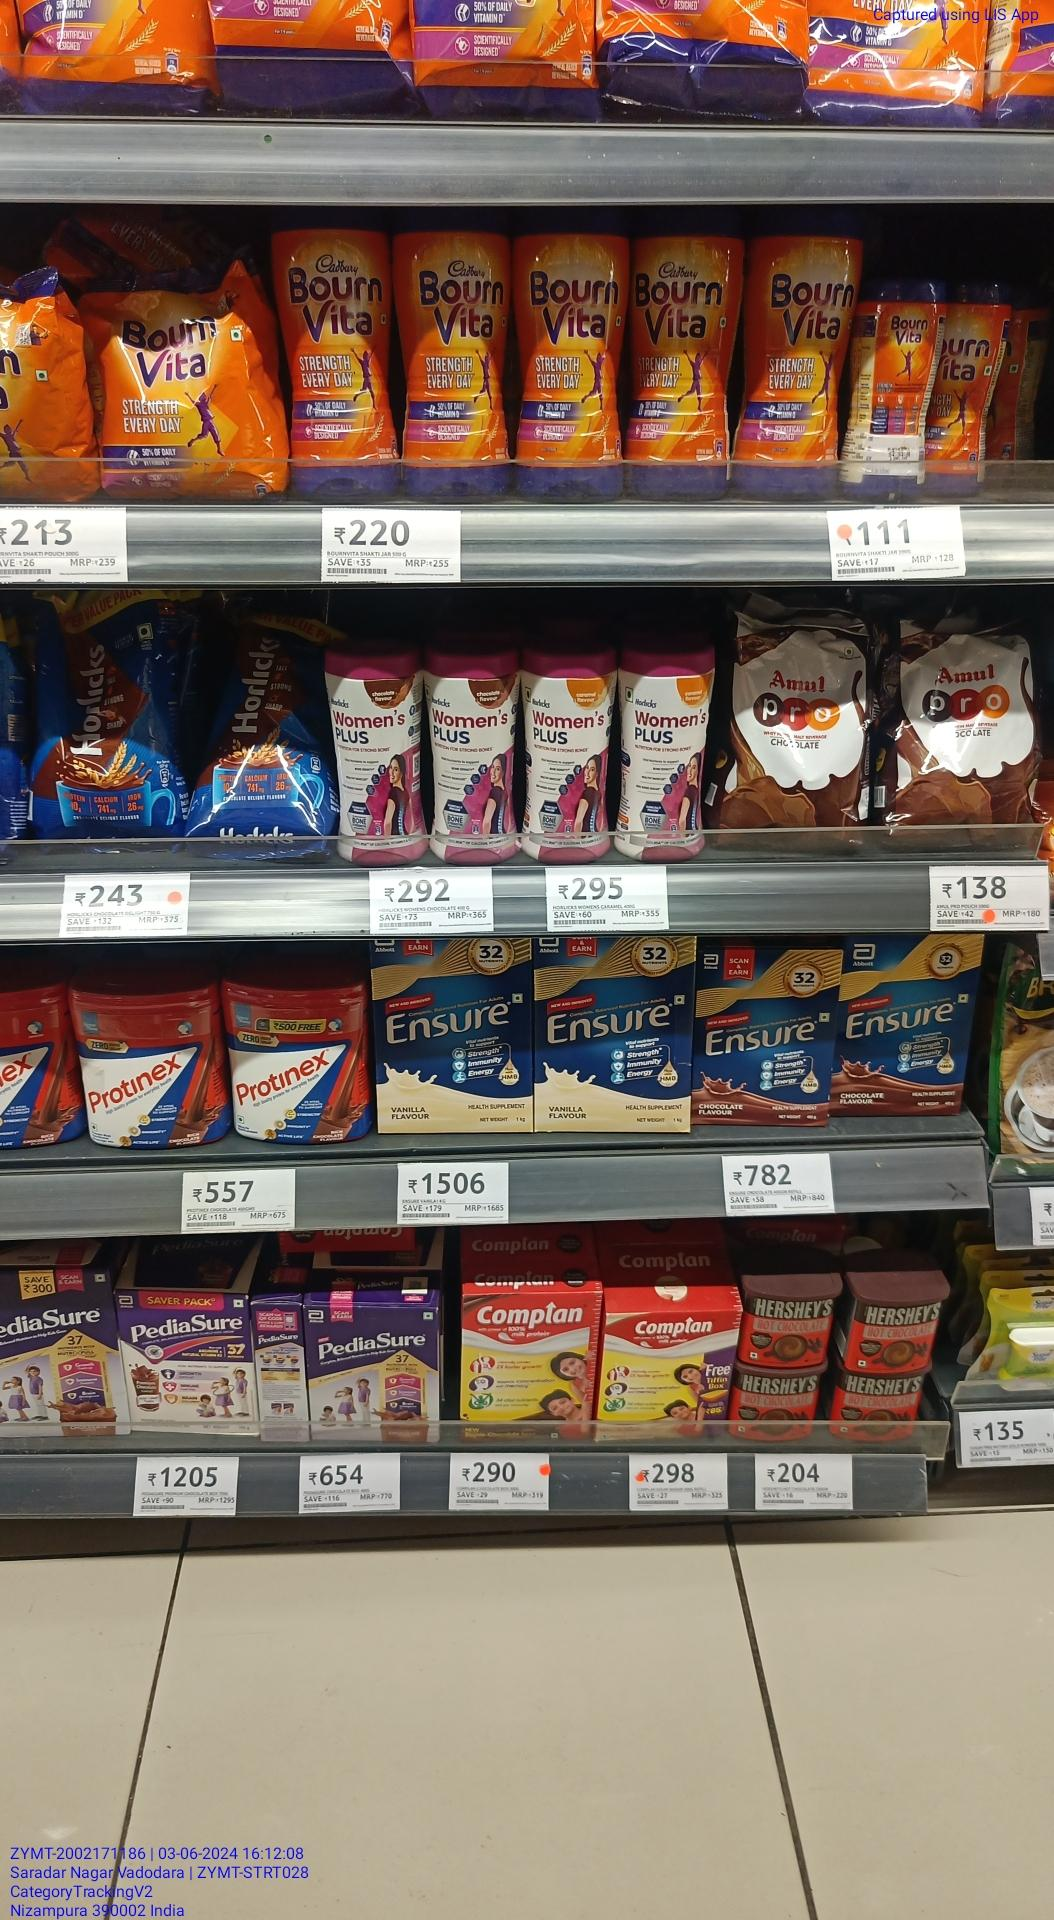BOURN_VITA_1_KG_JAR: (280, 211, 395, 496), (513, 214, 624, 498), (398, 210, 508, 497), (739, 219, 849, 497), (631, 215, 732, 499)
BOURN_VITA_500_G_JAR: (855, 280, 929, 494), (940, 282, 998, 496)
BOURN_VITA_750_G_POUCH: (95, 271, 276, 499)
COMPLAN_CHOCOLATE_500_GMS_PACK: (461, 1296, 594, 1445)
COMPLAN_KESAR_BADAM_200_GMS_PACK: (600, 1313, 741, 1440)
ENSURE_VANILLA_400_G_PACK: (374, 941, 533, 1134), (535, 942, 688, 1133)
HORLICK_CHOCOLATE_750_G_POUCH: (197, 594, 330, 860), (40, 589, 182, 835)
PEDIASURE_CHOCOLATE_500_G_PACK: (0, 1270, 122, 1432), (123, 1292, 257, 1435), (312, 1308, 435, 1445)
PROTINEX_CHOCOLATE_400_G_JAR: (75, 983, 225, 1147), (230, 979, 363, 1138)
